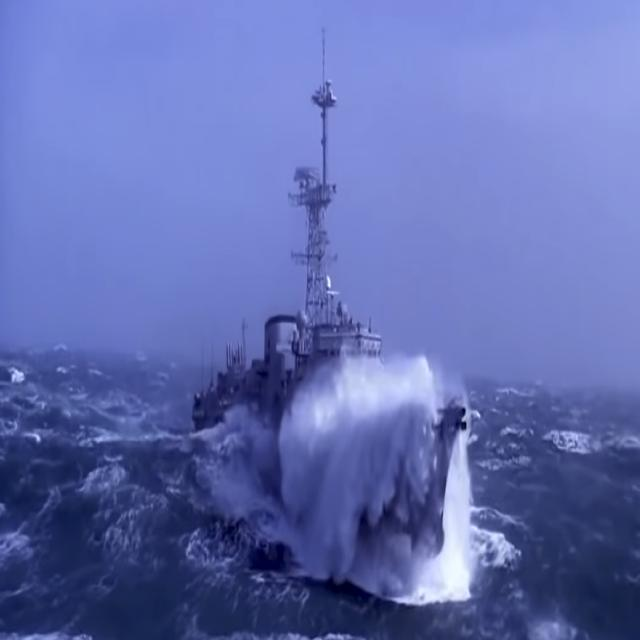navalvessels: (187, 29, 457, 562)
